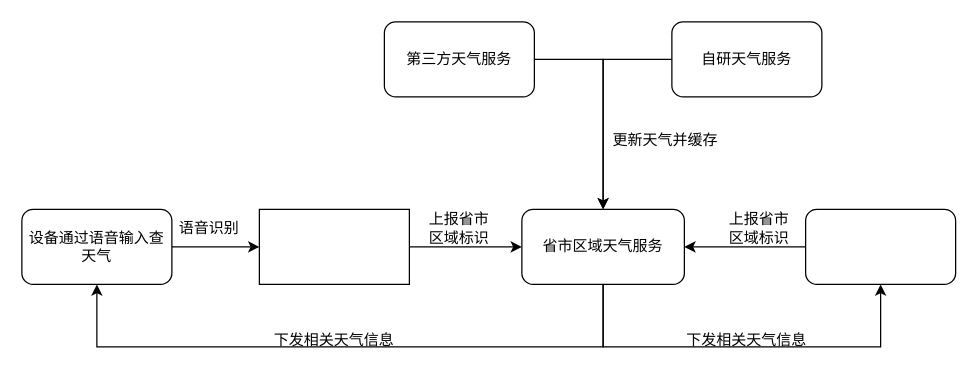
The diagram is 978 pixels wide and 381 high, and some of its shapes have lost their labels. Each missing label, with the centre of its shape:
"nlp天气技能" goes at [333,246].
"设备通过按键或触屏点击查天气" goes at [880,246].
